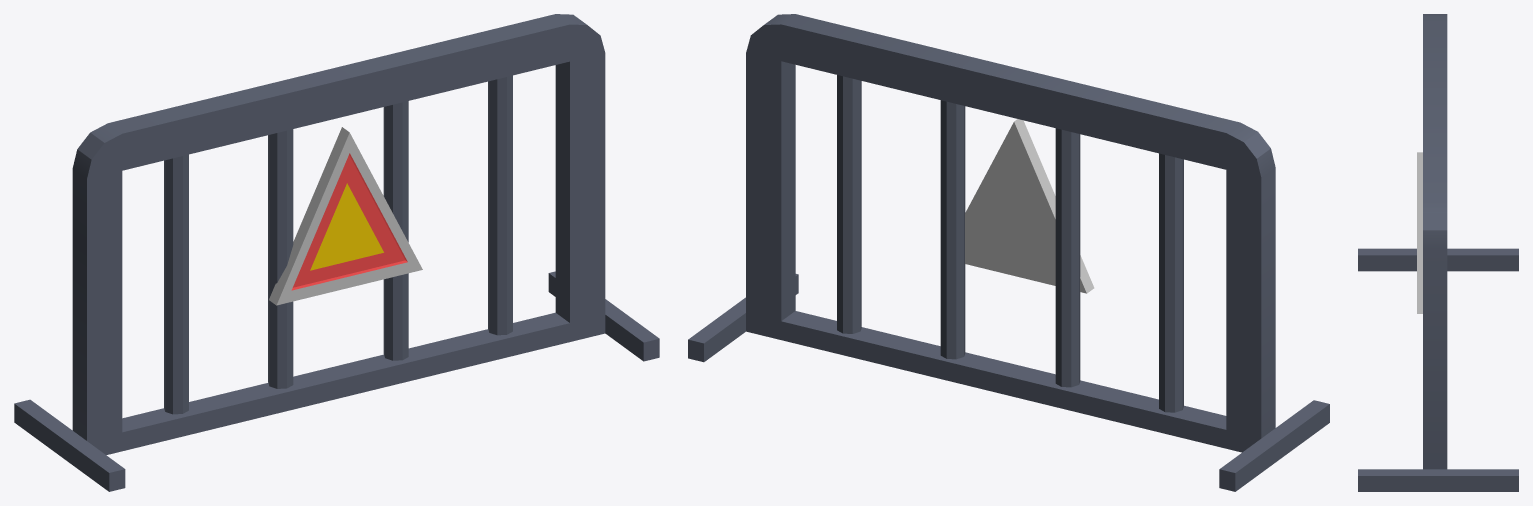
File: Barrier.fbx
3 views of the same model, side by side, from view 1: azimuth 30°, elevation 25°; view 2: azimuth 150°, elevation 25°; view 3: azimuth 270°, elevation 25° (orthographic). The views are drawn at different scales.
Parts seen in each view (by area): view 1: Barrier; view 2: Barrier; view 3: Barrier.
Part boxes in pixels (x1,y1,x2,y2): Barrier: (14,14,659,491); Barrier: (688,14,1329,491); Barrier: (1358,14,1518,491).
Bounding box in the file's own units: 127 × 69.98 × 37.93.
